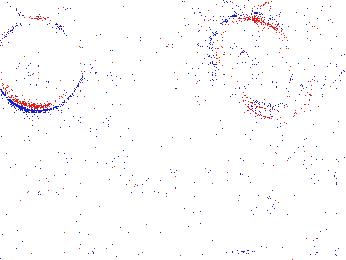moon jellyfish: (1, 17, 84, 113), (213, 14, 300, 103), (91, 34, 191, 84), (236, 65, 313, 121), (288, 24, 346, 89)
